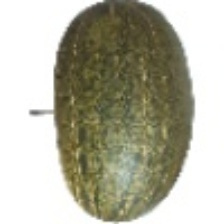honeydew: (41, 21, 180, 185)
